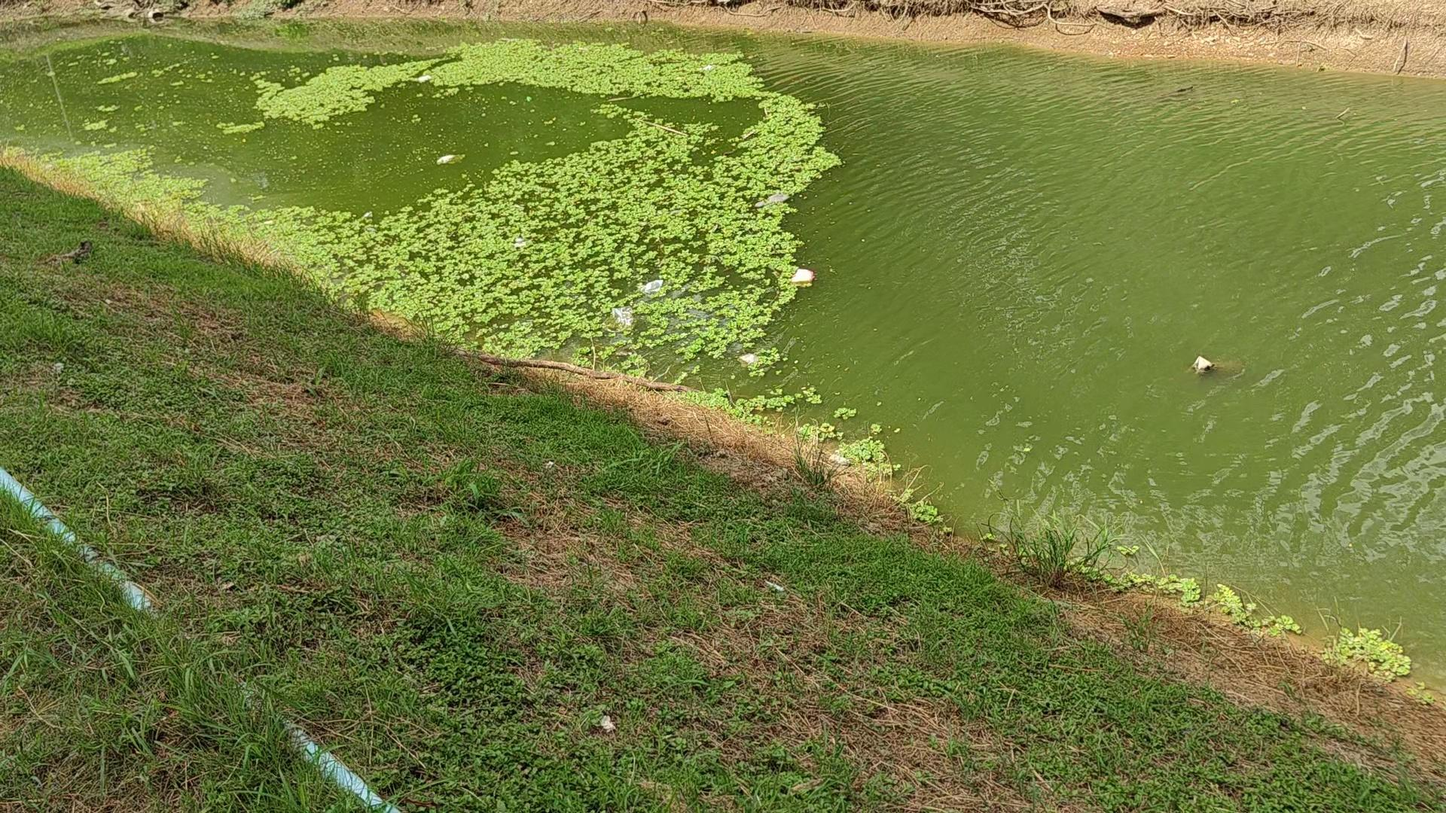trash: (790, 267, 814, 284), (1192, 356, 1214, 373), (640, 279, 663, 294), (612, 308, 631, 326), (437, 154, 460, 164), (765, 193, 790, 202), (739, 354, 758, 364), (415, 75, 432, 82), (514, 238, 526, 247), (701, 64, 715, 71), (757, 202, 764, 206)
